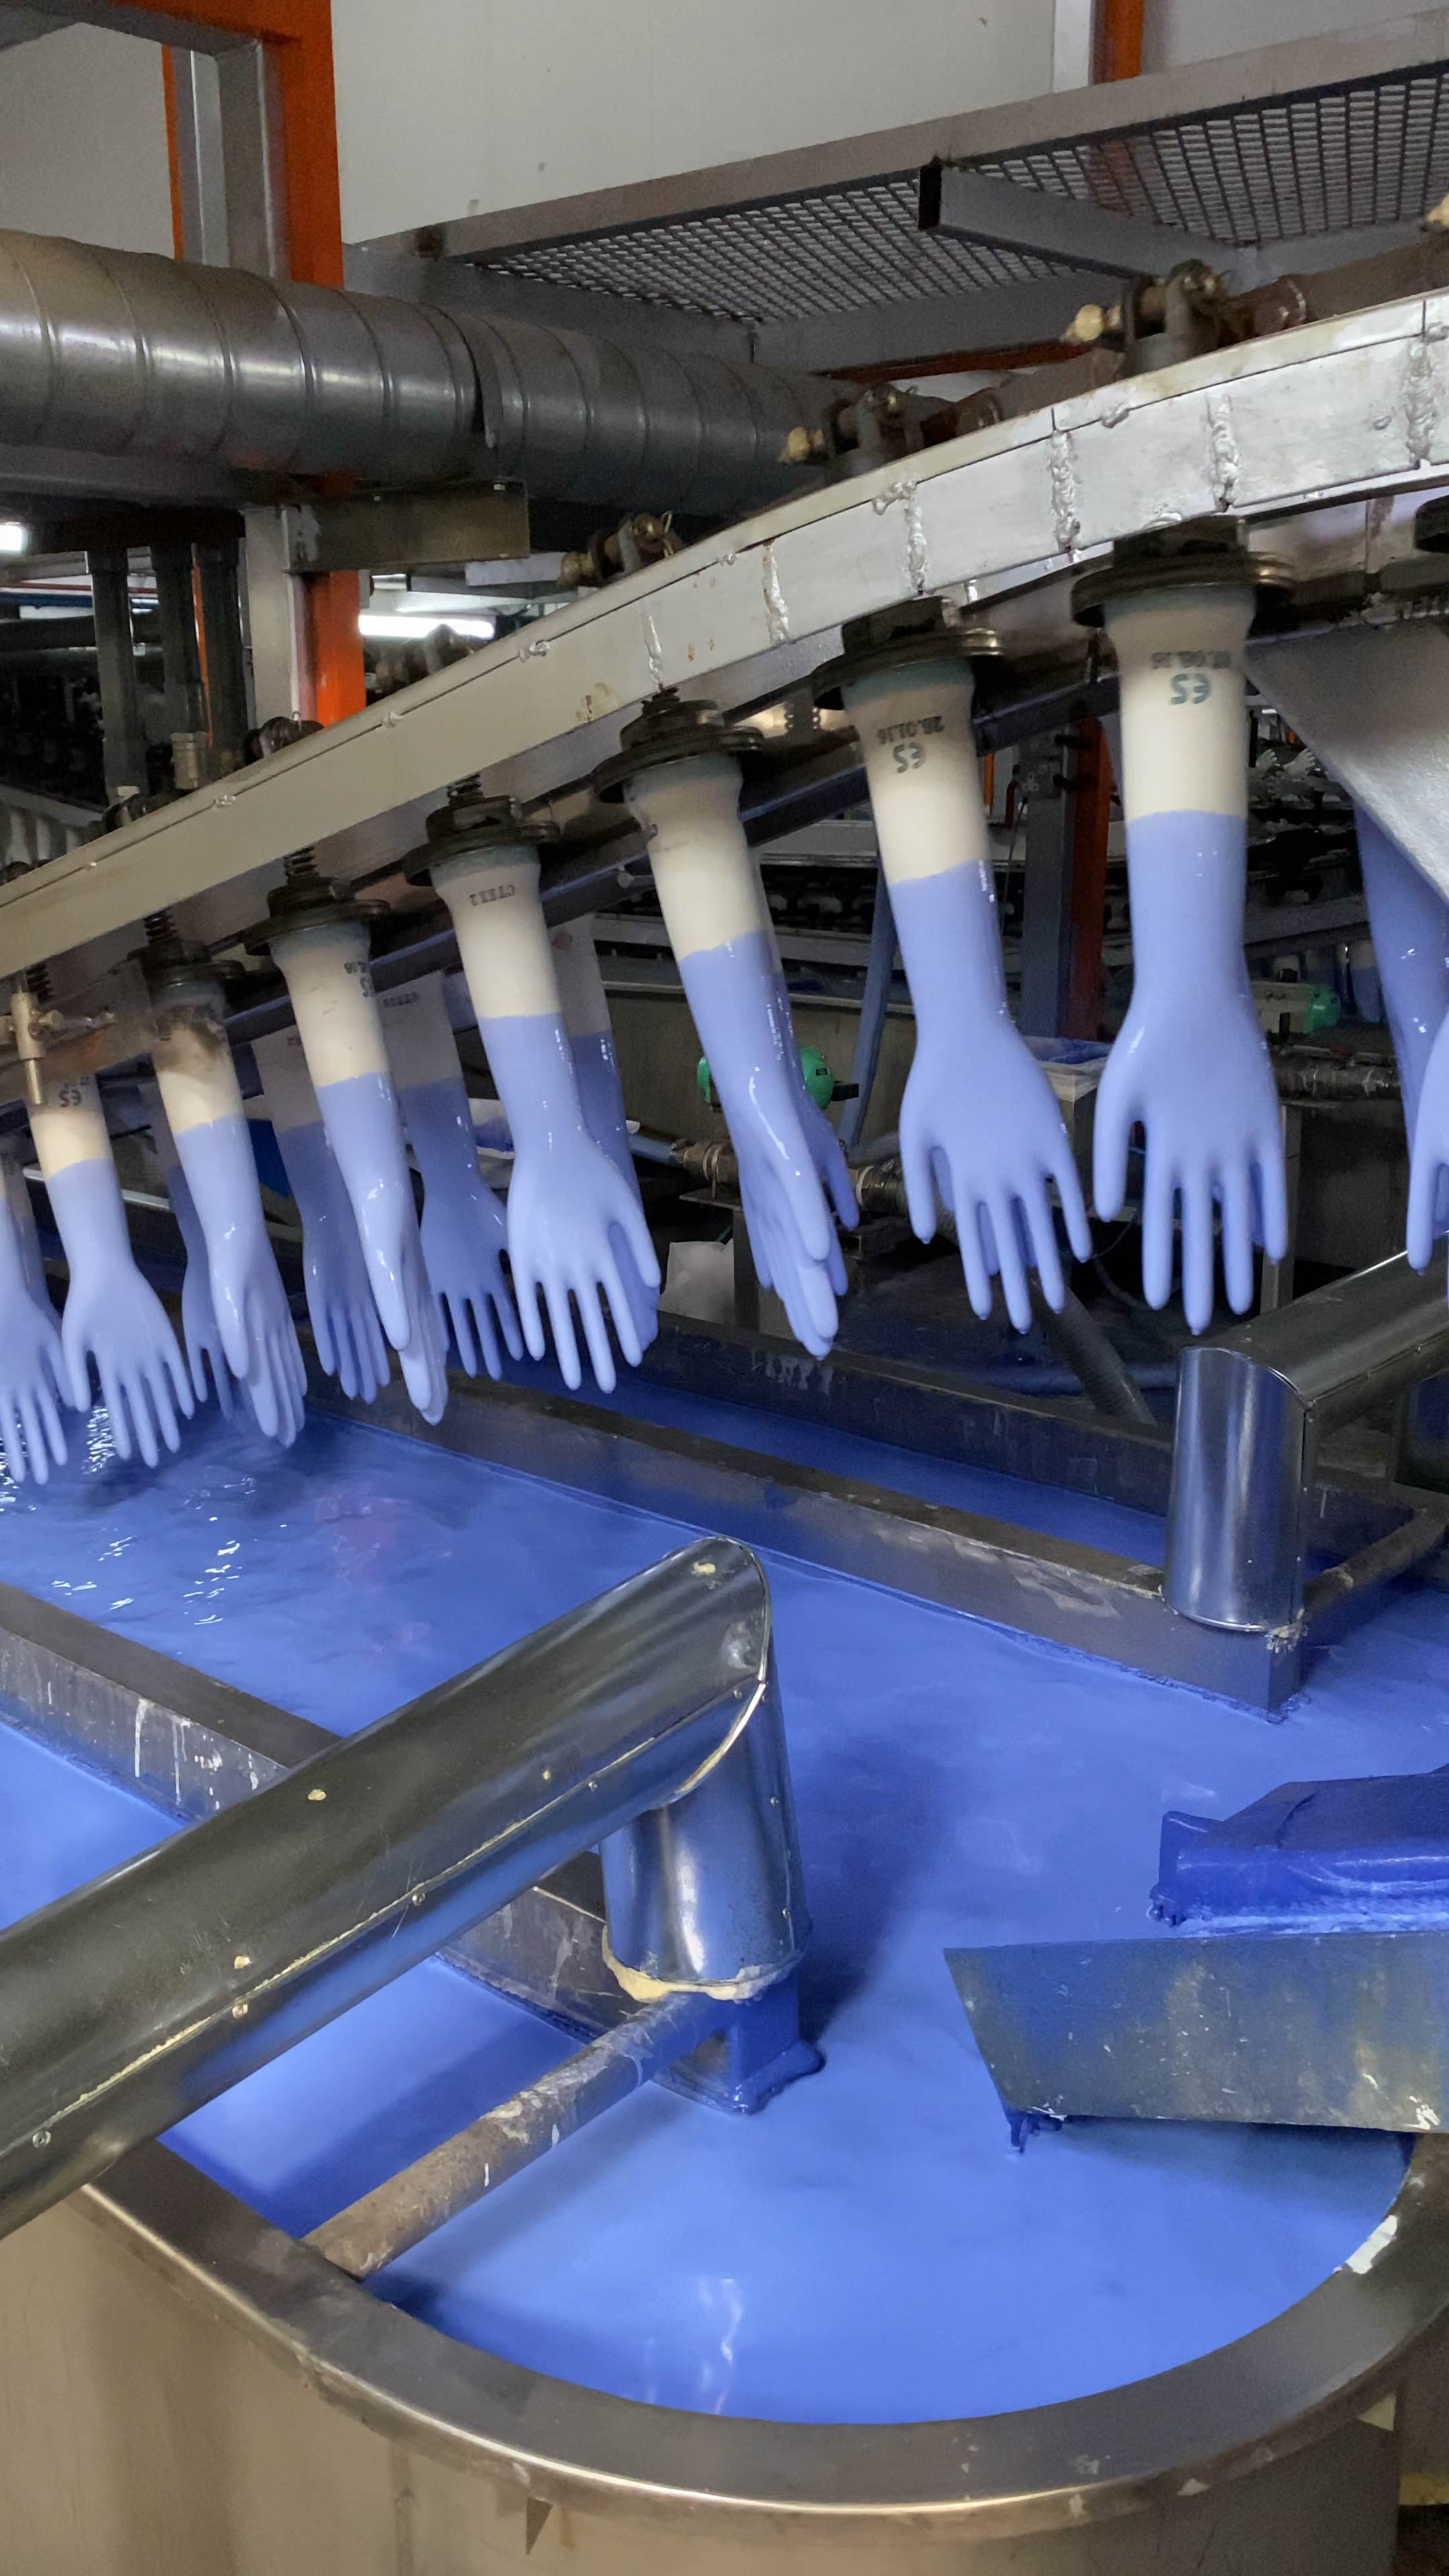glove: (1092, 814, 1288, 1332), (899, 858, 1093, 1332), (476, 1016, 662, 1392), (678, 936, 837, 1362), (311, 1076, 449, 1426), (44, 1159, 195, 1467), (172, 1118, 308, 1445), (1355, 810, 1449, 1270), (396, 1081, 524, 1380), (278, 1123, 391, 1401), (566, 1030, 660, 1353), (766, 968, 858, 1290), (0, 1173, 76, 1484), (170, 1169, 244, 1415)
